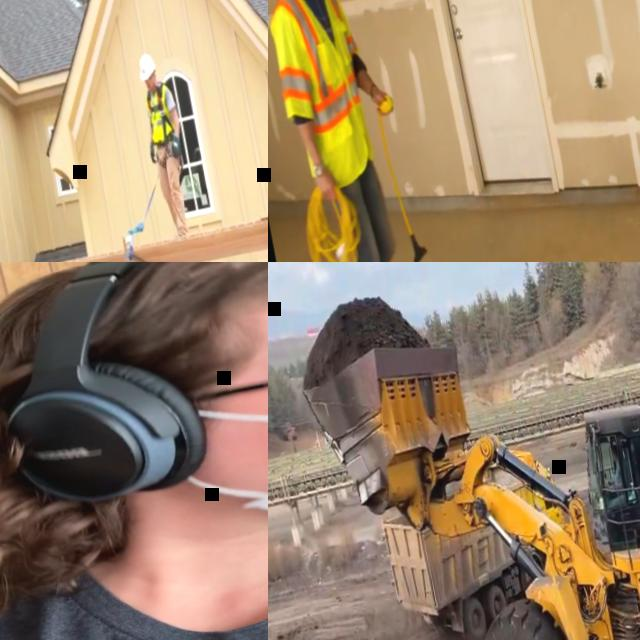Hardhat: (135, 51, 157, 80)
Mask: (172, 346, 268, 547)
NO-Hardhat: (0, 262, 268, 420), (609, 443, 616, 452)
NO-Mask: (146, 80, 155, 91), (609, 454, 616, 462)
NO-Safety Vest: (0, 474, 268, 640), (612, 457, 626, 484)
Person: (0, 262, 268, 640), (268, 0, 445, 262), (131, 48, 198, 239), (594, 442, 628, 499)
Safety Vest: (268, 0, 380, 195), (142, 81, 176, 142)
vehicle: (295, 262, 640, 640), (368, 433, 577, 640)
